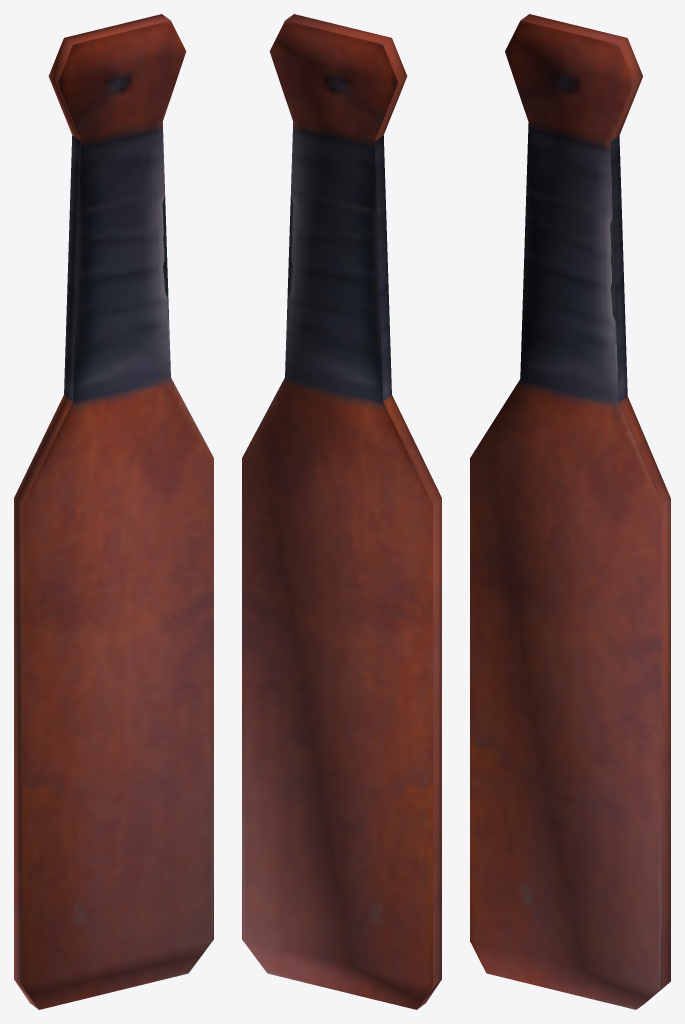
File: bdsm_paddle.FBX
3 renders of one model, left to right at view 1: azimuth 30°, elevation 25°; view 2: azimuth 150°, elevation 25°; view 3: azimuth 330°, elevation 25°, orthographic.
Parts seen in each view (by area): view 1: bdsm_paddle; view 2: bdsm_paddle; view 3: bdsm_paddle.
Boxes of the visible parts, x1,y1,x2,y2 form: bdsm_paddle: (14, 14, 213, 1009); bdsm_paddle: (242, 14, 441, 1009); bdsm_paddle: (470, 14, 670, 1009).
Bounding box in the file's own units: 15.27 × 73.19 × 1.26.
